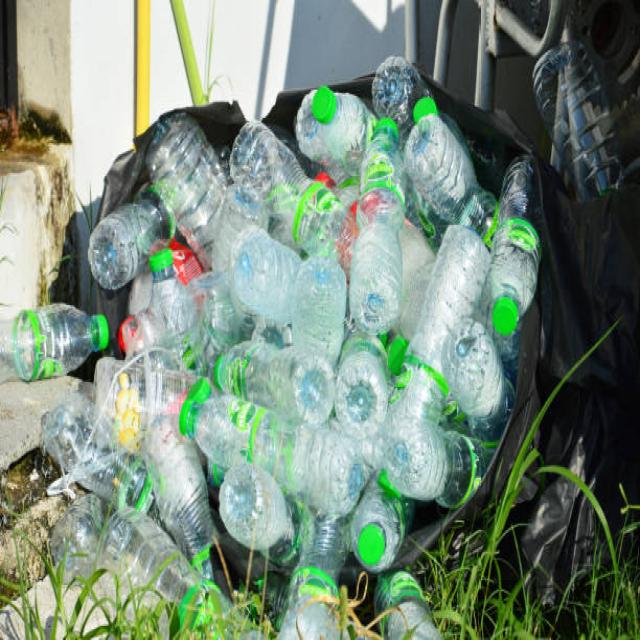plastic: (156, 151, 463, 498)
